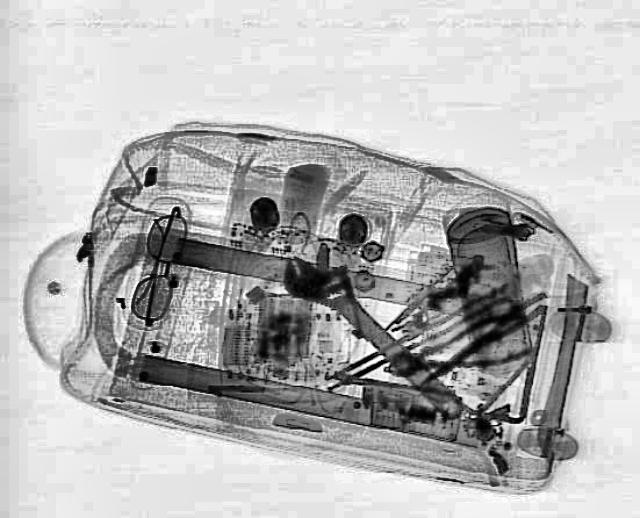Wrench: (267, 240, 487, 430)
